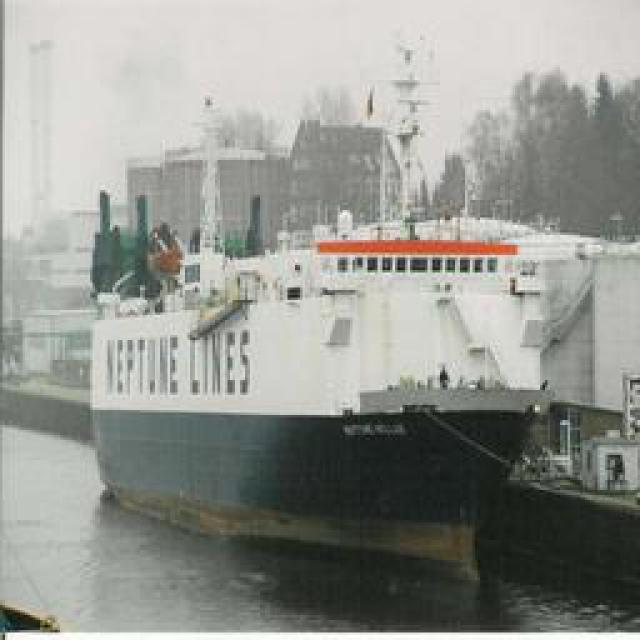Ship: (93, 125, 628, 533)
